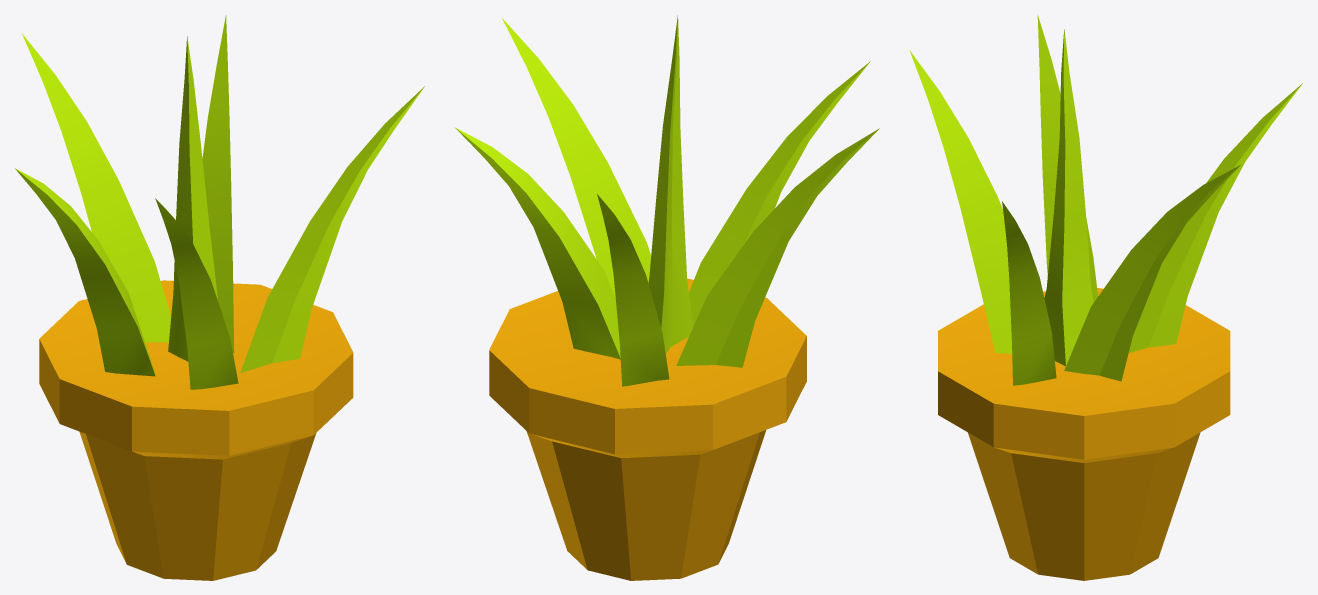
File: aloe-vera-plant.glb
3 renders of one model, left to right at view 1: azimuth 30°, elevation 25°; view 2: azimuth 150°, elevation 25°; view 3: azimuth 270°, elevation 25°, orthographic. The views are drawn at different scales.
Parts seen in each view (by area): view 1: pCylinder2; view 2: pCylinder2; view 3: pCylinder2.
Part boxes in pixels (box(x1,y1,x2,y2)): pCylinder2: box(15, 15, 424, 580); pCylinder2: box(455, 15, 879, 580); pCylinder2: box(909, 15, 1302, 580).
Size of the model in its own units: 34.31 by 43.75 by 30.61.
